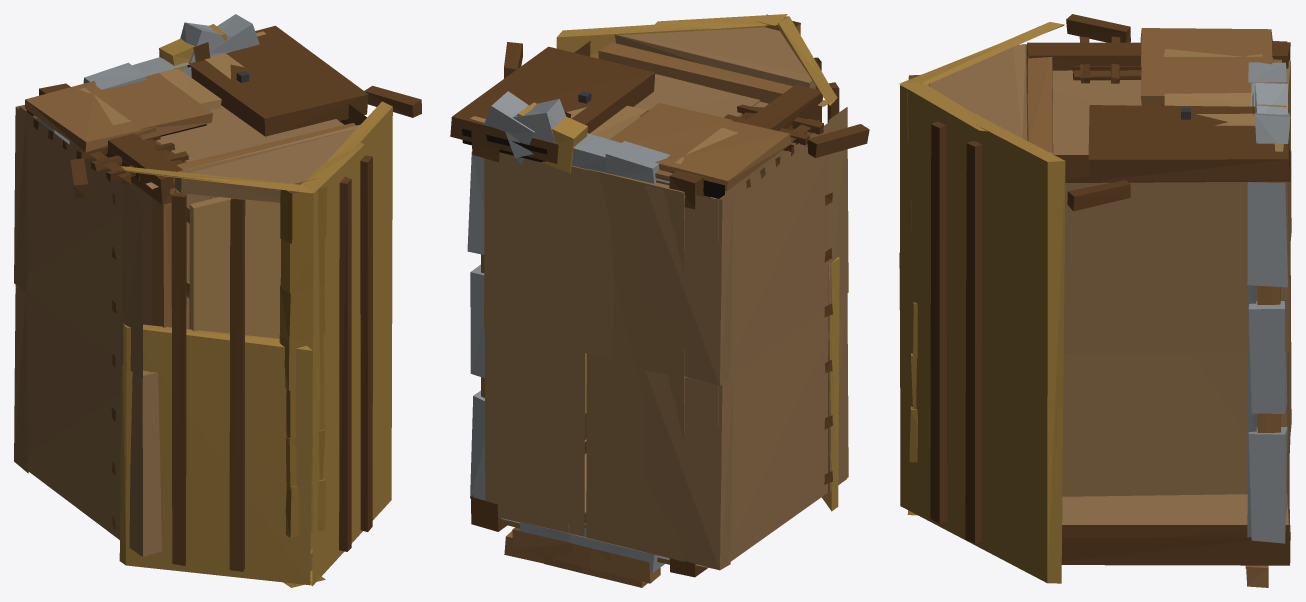
The model's file is starter_house.obj.
The picture shows the model from 3 angles, left to right: view 1: azimuth 30°, elevation 25°; view 2: azimuth 150°, elevation 25°; view 3: azimuth 270°, elevation 25°; orthographic projection. The views are drawn at different scales.
Parts seen in each view (by area): view 1: sh_house; view 2: sh_house; view 3: sh_house.
Boxes of the visible parts, box(x1,y1,x2,y2) form: sh_house: box(14, 14, 421, 587); sh_house: box(450, 14, 869, 587); sh_house: box(899, 14, 1291, 587).
Bounding box in the file's own units: 2.64 × 3.24 × 2.4.
